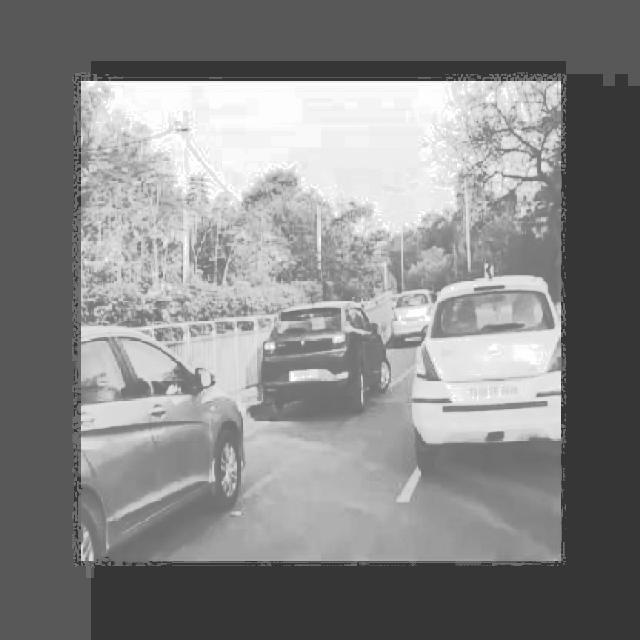Car: (82, 316, 248, 560), (414, 275, 563, 483), (256, 297, 394, 429), (389, 275, 429, 343)
